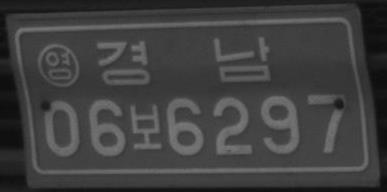0: (43, 99, 80, 159)
2: (212, 95, 252, 155)
6: (88, 97, 126, 157), (166, 96, 204, 156)
7: (306, 92, 348, 154)
9: (260, 94, 300, 155)
경남_D: (96, 35, 270, 86)
보: (128, 103, 162, 151)
영: (37, 42, 80, 88)
